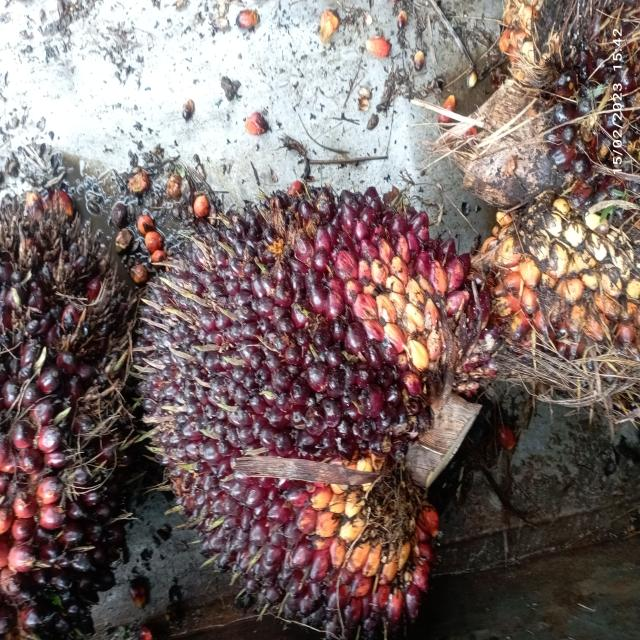fraksi 1: (115, 182, 491, 624)
